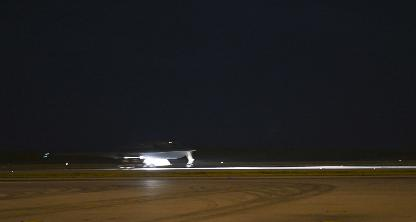B1: (41, 138, 197, 167)
